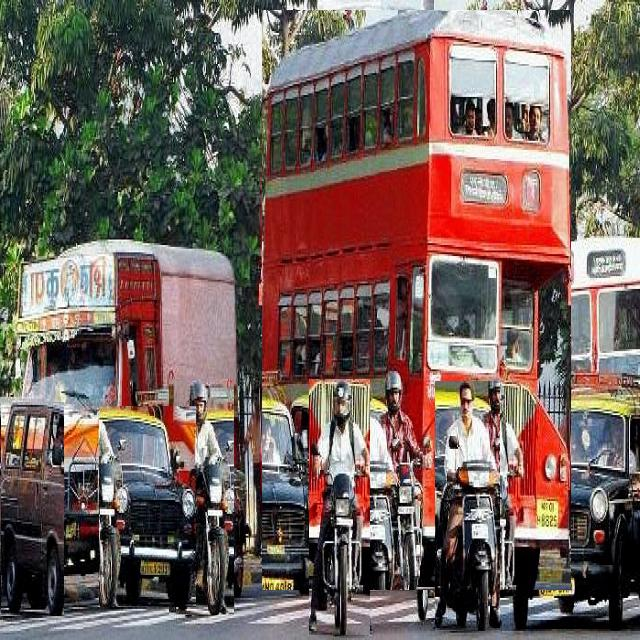bus: (262, 10, 570, 590)
car: (506, 392, 640, 629), (99, 407, 196, 607), (0, 403, 64, 616)
motorcycle: (435, 382, 500, 631), (309, 380, 370, 635), (169, 380, 234, 615), (409, 372, 450, 620)
truck: (18, 240, 237, 559)
